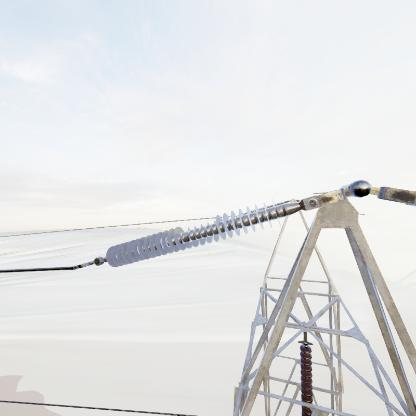insulator: (102, 194, 294, 266), (295, 335, 315, 416)
